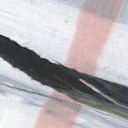crackTip: (1, 34, 128, 120)
